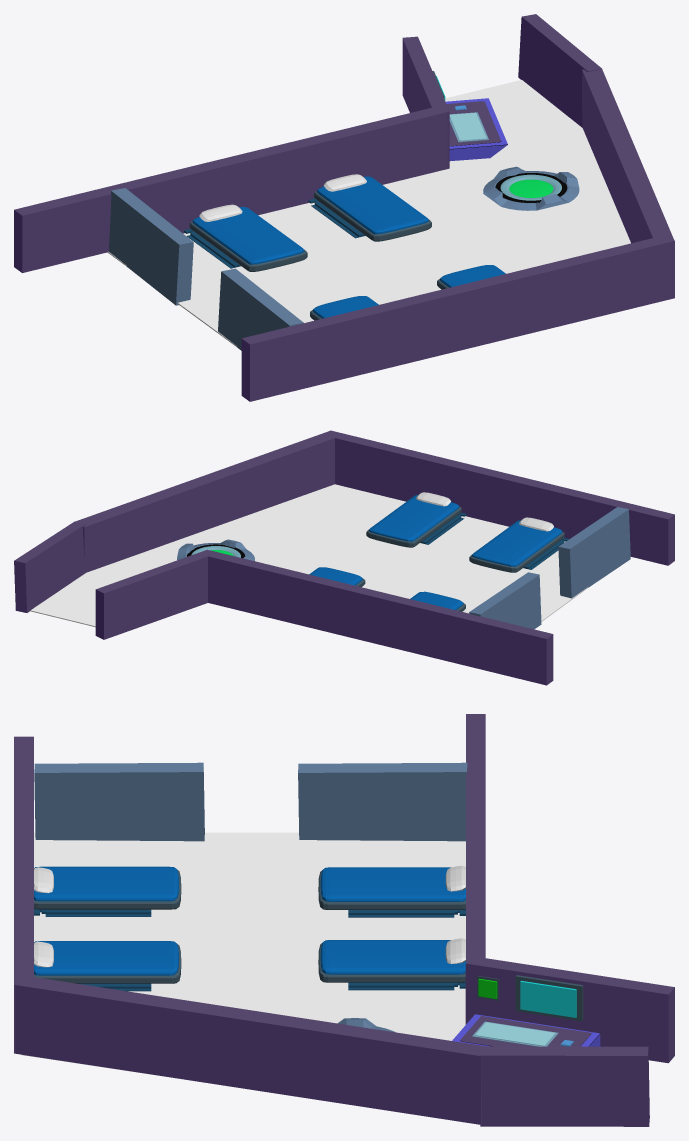
Rendered from space.glb.
The picture shows the model from 3 angles, top to bottom: view 1: azimuth 30°, elevation 25°; view 2: azimuth 150°, elevation 25°; view 3: azimuth 270°, elevation 25°; orthographic projection. The views are drawn at different scales.
Parts seen in each view (by area): view 1: Cube, Cube.001, Cube.002, Cube.004, Cube.007, Cube.005, Cube.006, Cube.016, Cube.020, Cube.003, Cone, Cube.024 (+8 smaller); view 2: Cube, Cube.002, Cube.001, Cube.004, Cube.003, Cube.006, Cube.005, Cube.007, Cube.012, Cube.008, Cube.010, Cube.014 (+3 smaller); view 3: Cube, Cube.004, Cube.005, Cube.006, Cube.007, Cube.003, Cube.001, Cube.002, Cube.012, Cube.020, Cube.016, Cube.008 (+12 smaller).
Part boxes in pixels (<box>): Cube: <box>107,80,630,346</box>; Cube.001: <box>241,235,674,401</box>; Cube.002: <box>14,106,447,272</box>; Cube.004: <box>582,69,673,243</box>; Cube.007: <box>109,188,193,305</box>; Cube.005: <box>518,14,601,127</box>; Cube.006: <box>218,268,303,350</box>; Cube.016: <box>192,207,304,264</box>; Cube.020: <box>317,176,428,234</box>; Cube.003: <box>402,36,449,168</box>; Cone: <box>483,166,579,210</box>; Cube.024: <box>445,98,507,161</box>; Cube: <box>30,484,588,627</box>; Cube.002: <box>208,550,553,685</box>; Cube.001: <box>324,430,674,565</box>; Cube.004: <box>75,430,338,572</box>; Cube.003: <box>95,549,212,639</box>; Cube.006: <box>558,507,630,598</box>; Cube.005: <box>14,521,85,612</box>; Cube.007: <box>469,572,541,629</box>; Cube.012: <box>471,520,562,566</box>; Cube.008: <box>368,495,459,541</box>; Cube.010: <box>366,507,461,547</box>; Cube.014: <box>469,532,564,572</box>; Cube: <box>22,832,465,1072</box>; Cube.004: <box>14,975,485,1124</box>; Cube.005: <box>479,1046,649,1126</box>; Cube.006: <box>34,762,204,841</box>; Cube.007: <box>298,762,467,841</box>; Cube.003: <box>465,957,674,1063</box>; Cube.001: <box>14,736,33,1053</box>; Cube.002: <box>466,714,485,962</box>; Cube.012: <box>34,866,178,901</box>; Cube.020: <box>320,940,465,974</box>; Cube.016: <box>320,867,465,901</box>; Cube.008: <box>34,941,178,975</box>.
Bounding box in the file's own units: 106 × 10.81 × 85.58.
